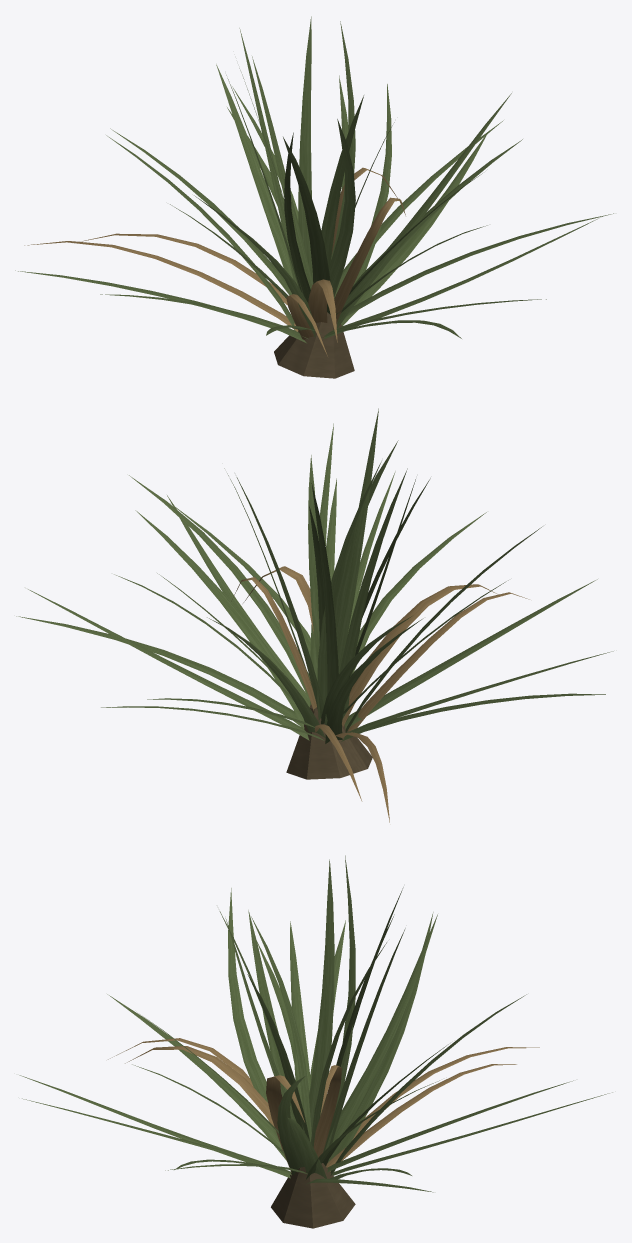
File: SM_CN_Yucca_A.glb
3 views of the same model, one above another, from view 1: azimuth 30°, elevation 25°; view 2: azimuth 150°, elevation 25°; view 3: azimuth 270°, elevation 25° (orthographic). The views are drawn at different scales.
Parts seen in each view (by area): view 1: SM_CN_Yucca_A; view 2: SM_CN_Yucca_A; view 3: SM_CN_Yucca_A.
Part boxes in pixels (left/top/right/bottom): SM_CN_Yucca_A: left=15, top=16, right=613, bottom=378; SM_CN_Yucca_A: left=16, top=408, right=613, bottom=822; SM_CN_Yucca_A: left=19, top=855, right=612, bottom=1228.
Size of the model in its own units: 1.32 by 0.78 by 1.31.
2 materials, 2 textured.
